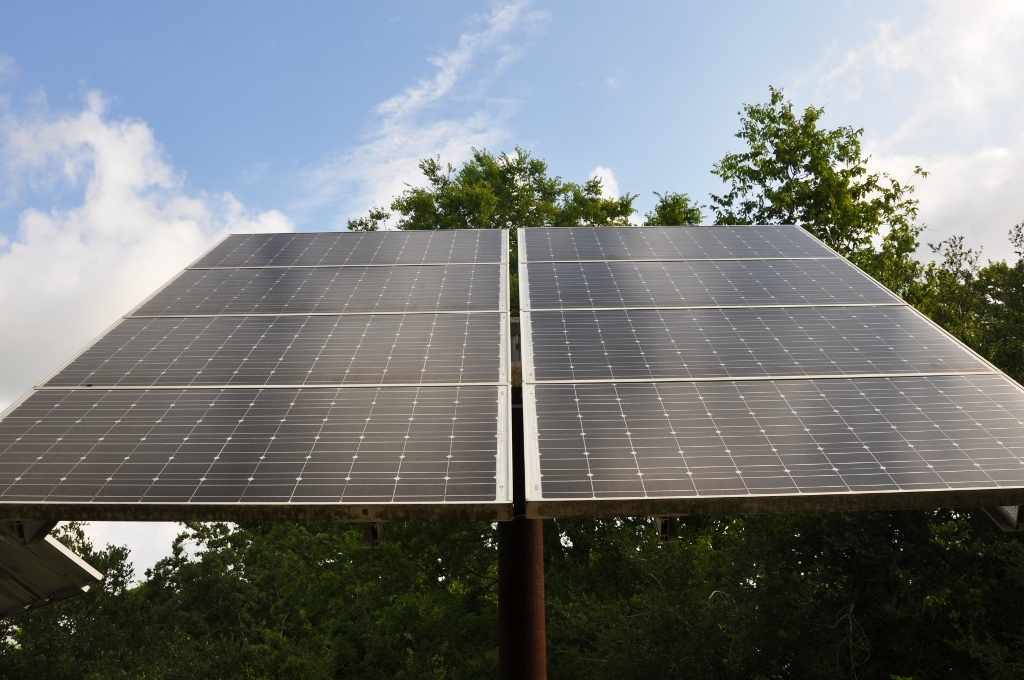Tree: (0, 83, 1024, 679)
